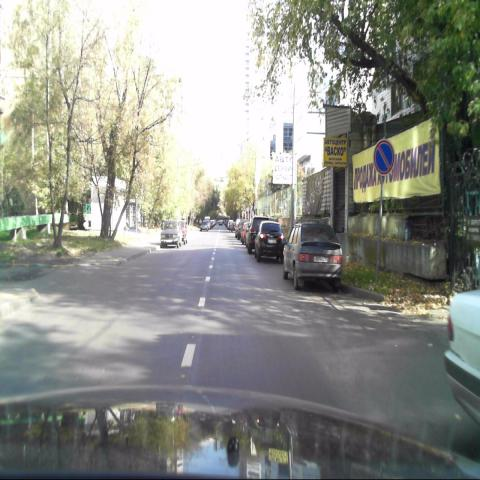3_28: (373, 138, 396, 178)
